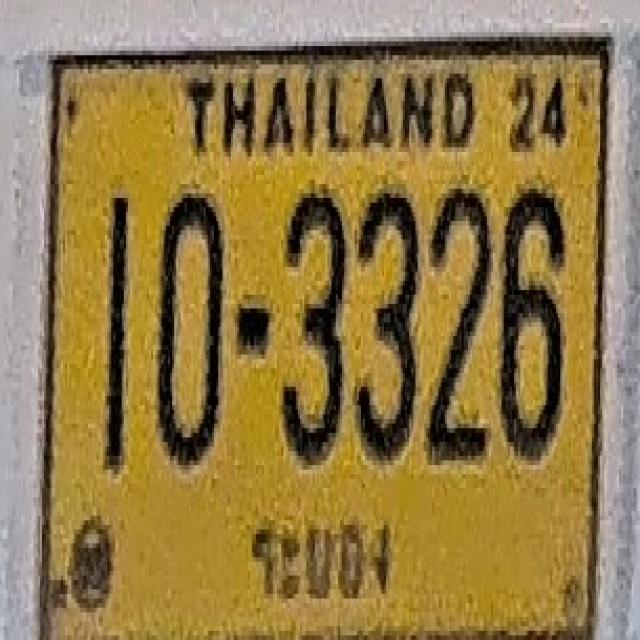0: (158, 189, 222, 465)
1: (105, 193, 128, 470)
2: (426, 182, 491, 458)
3: (281, 186, 346, 463), (356, 186, 418, 463)
6: (500, 184, 564, 461)
RYG: (243, 500, 400, 619)
